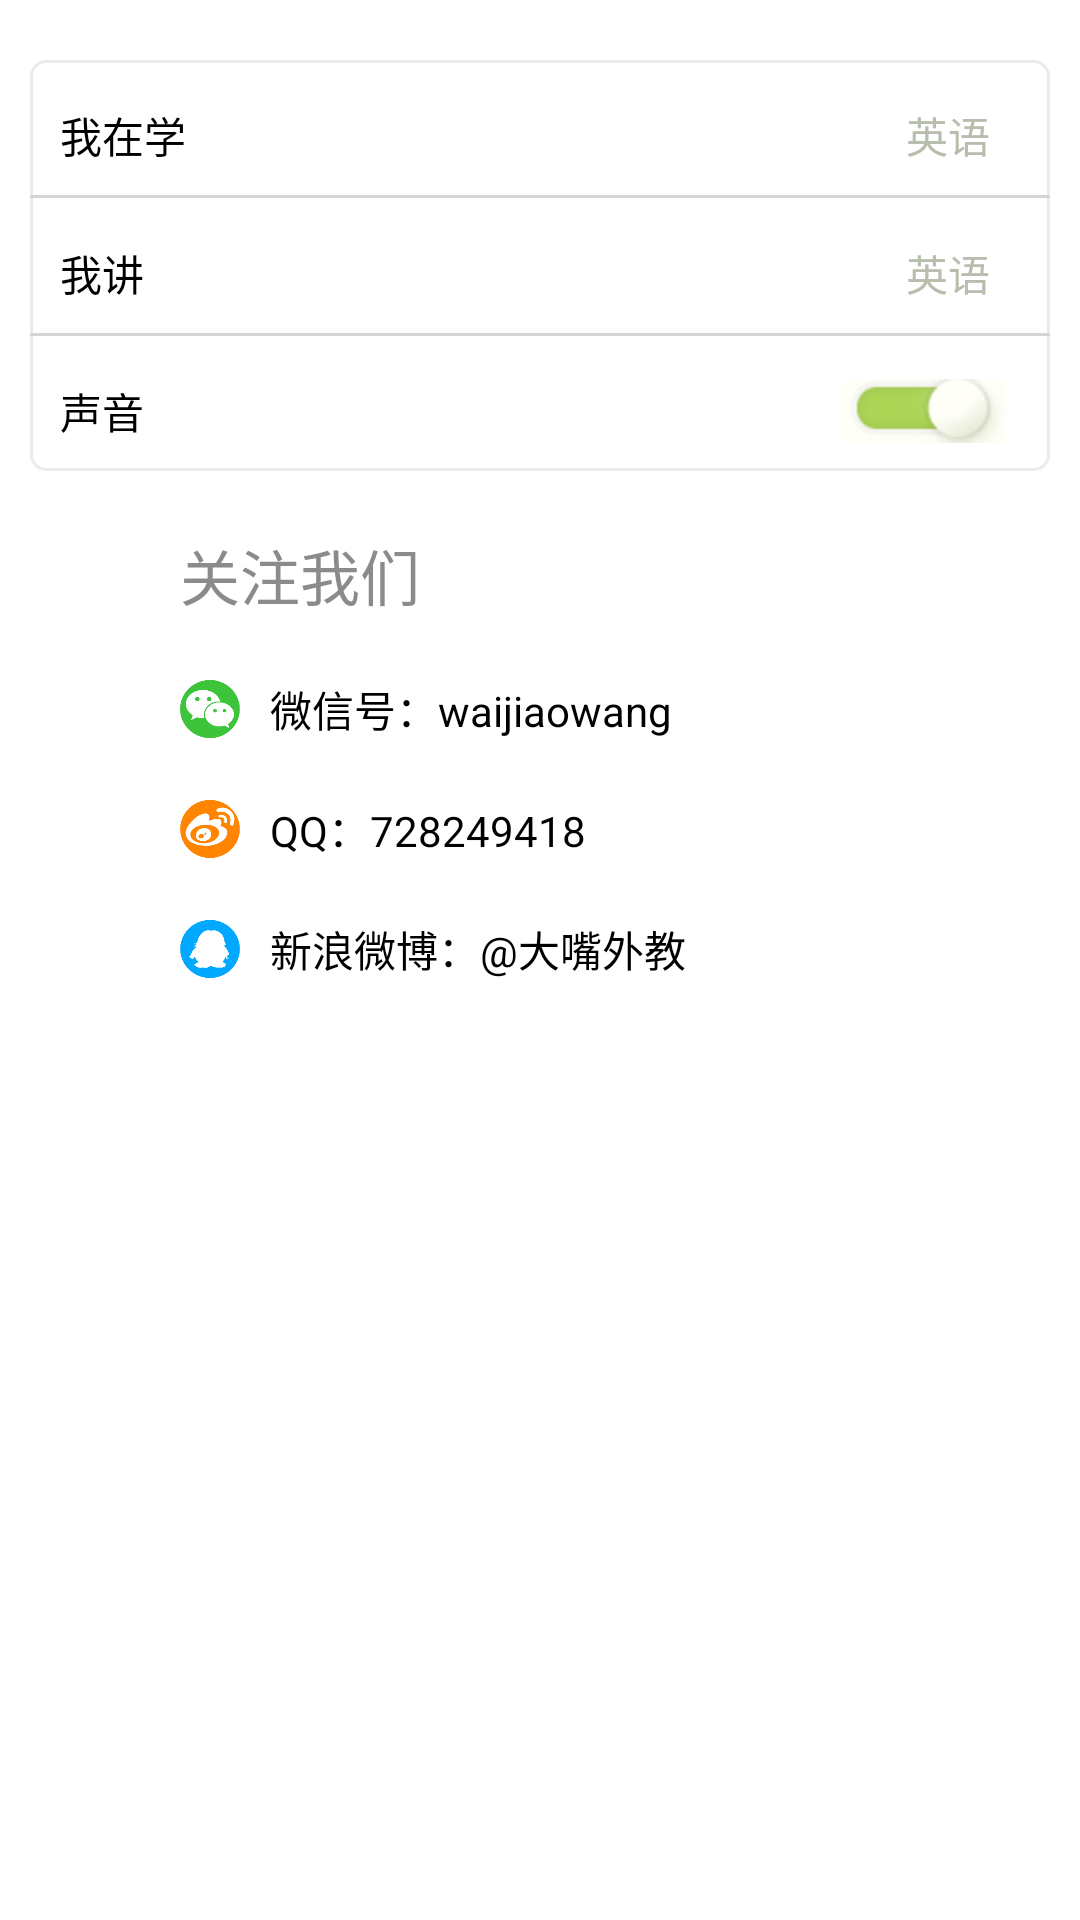

Where to tap for icons on this 1080w x 1920h app screen, as [x,y]:
swit: [924,413]
